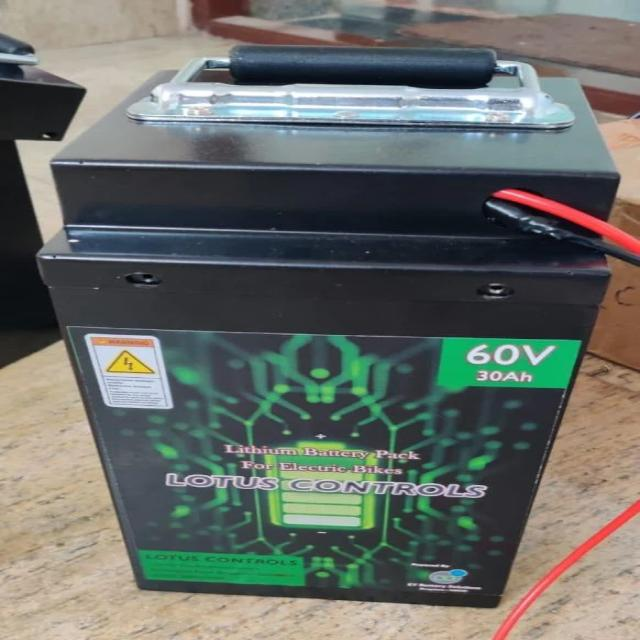electronic: (10, 27, 628, 613)
